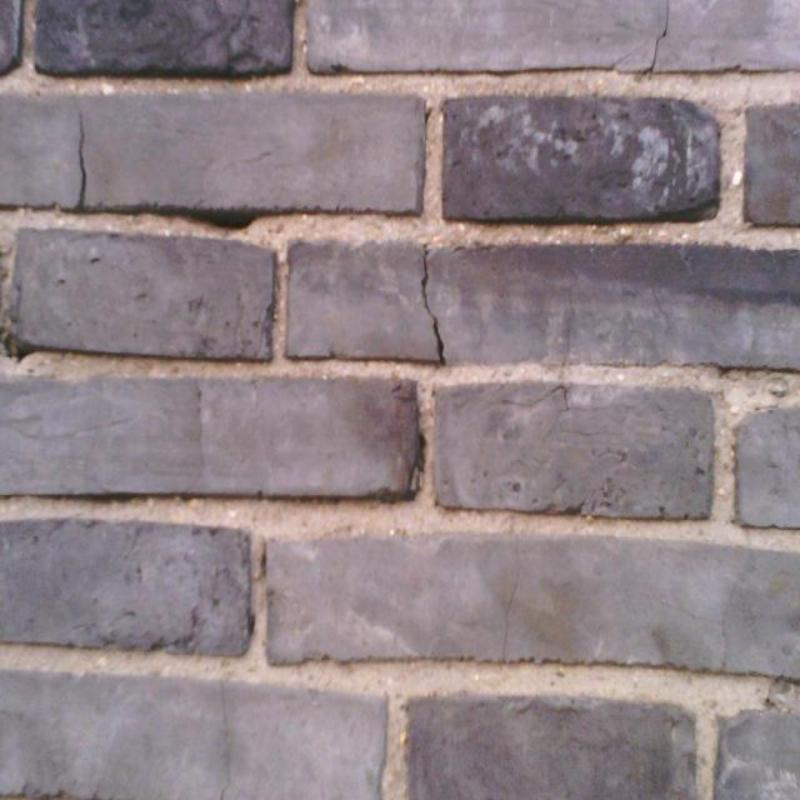crack: (420, 250, 447, 366), (68, 95, 88, 215), (642, 1, 669, 75), (195, 214, 254, 228)
